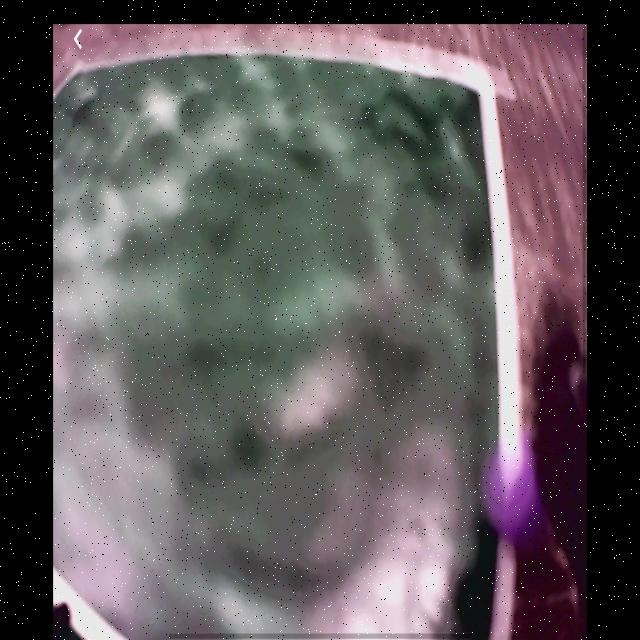ball: (481, 427, 543, 549)
